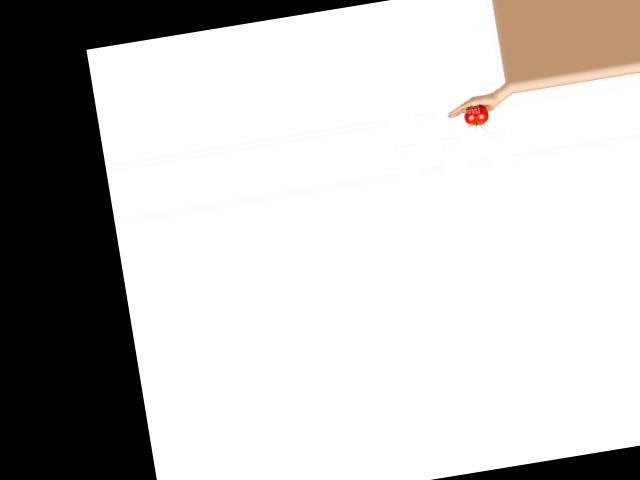tomato: (462, 103, 489, 127)
